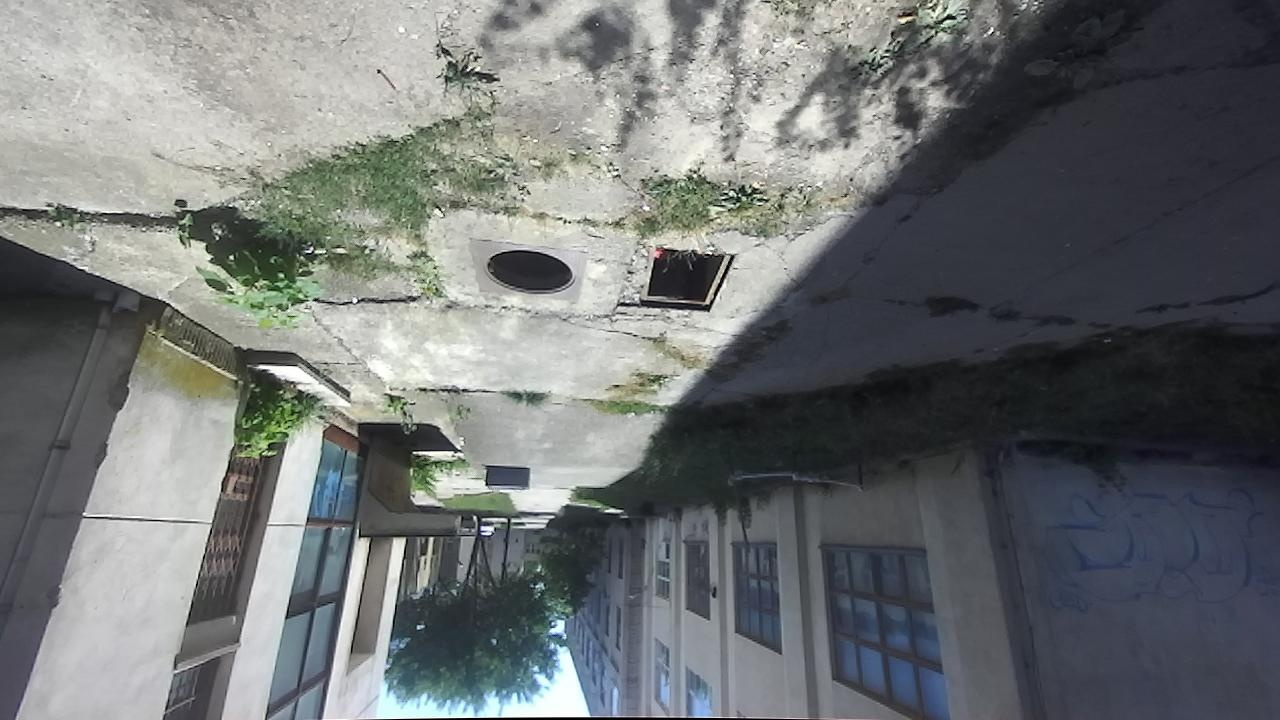drain: (635, 248, 743, 315), (477, 249, 582, 298)
